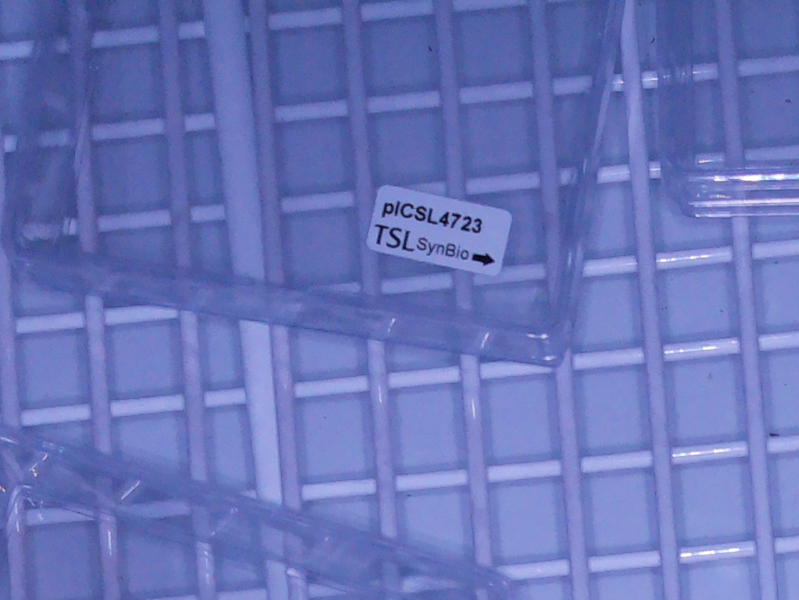plate: (1, 1, 626, 375), (1, 423, 520, 600), (655, 1, 799, 219)
